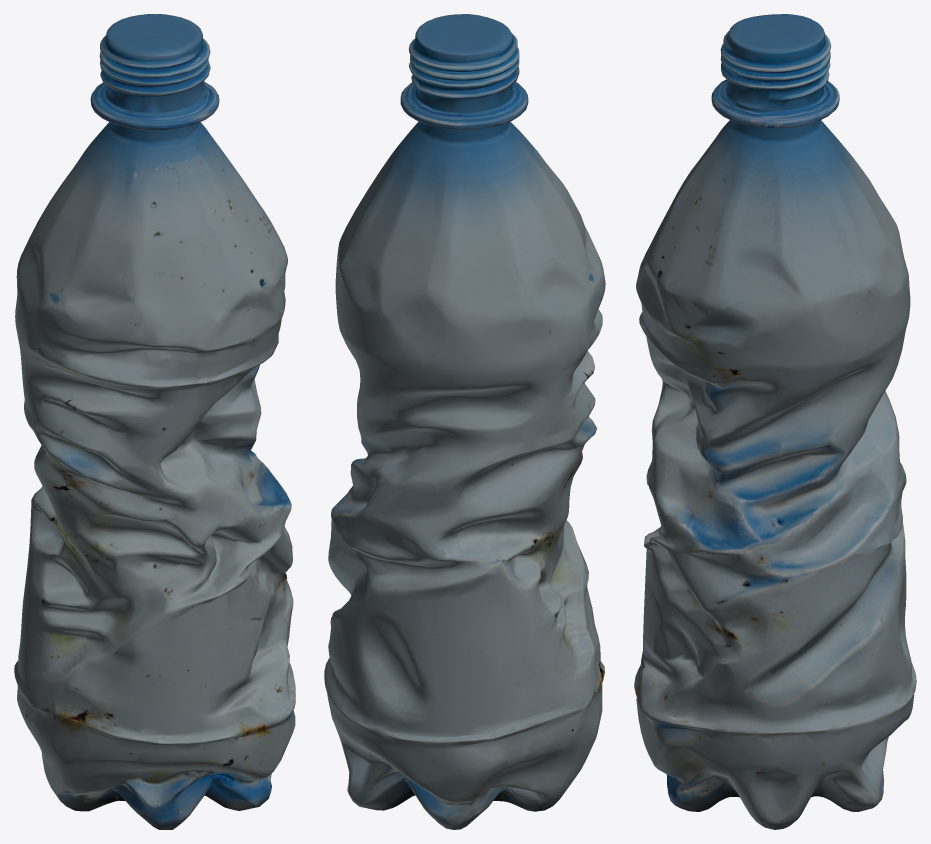
Rendered from PlasticBottle01.fbx.
3 renders of one model, left to right at view 1: azimuth 30°, elevation 25°; view 2: azimuth 150°, elevation 25°; view 3: azimuth 270°, elevation 25°, orthographic.
Parts seen in each view (by area): view 1: tripo_node_e364a120; view 2: tripo_node_e364a120; view 3: tripo_node_e364a120.
Boxes of the visible parts, x1=… form: tripo_node_e364a120: x1=14, y1=14, x2=295, y2=829; tripo_node_e364a120: x1=324, y1=14, x2=605, y2=829; tripo_node_e364a120: x1=634, y1=14, x2=916, y2=829.
Size of the model in its own units: 0.3326 by 0.9805 by 0.3313.
